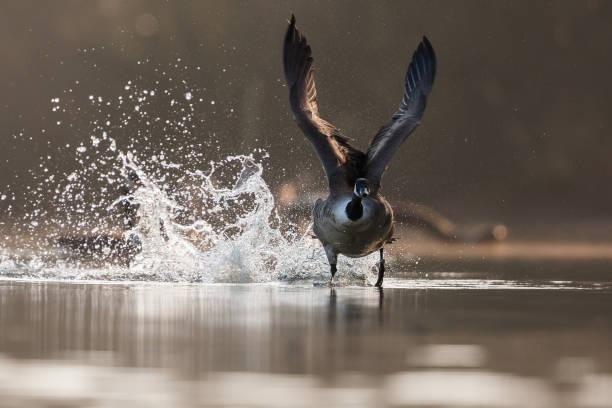Canadian-Goose: (280, 14, 438, 300)
